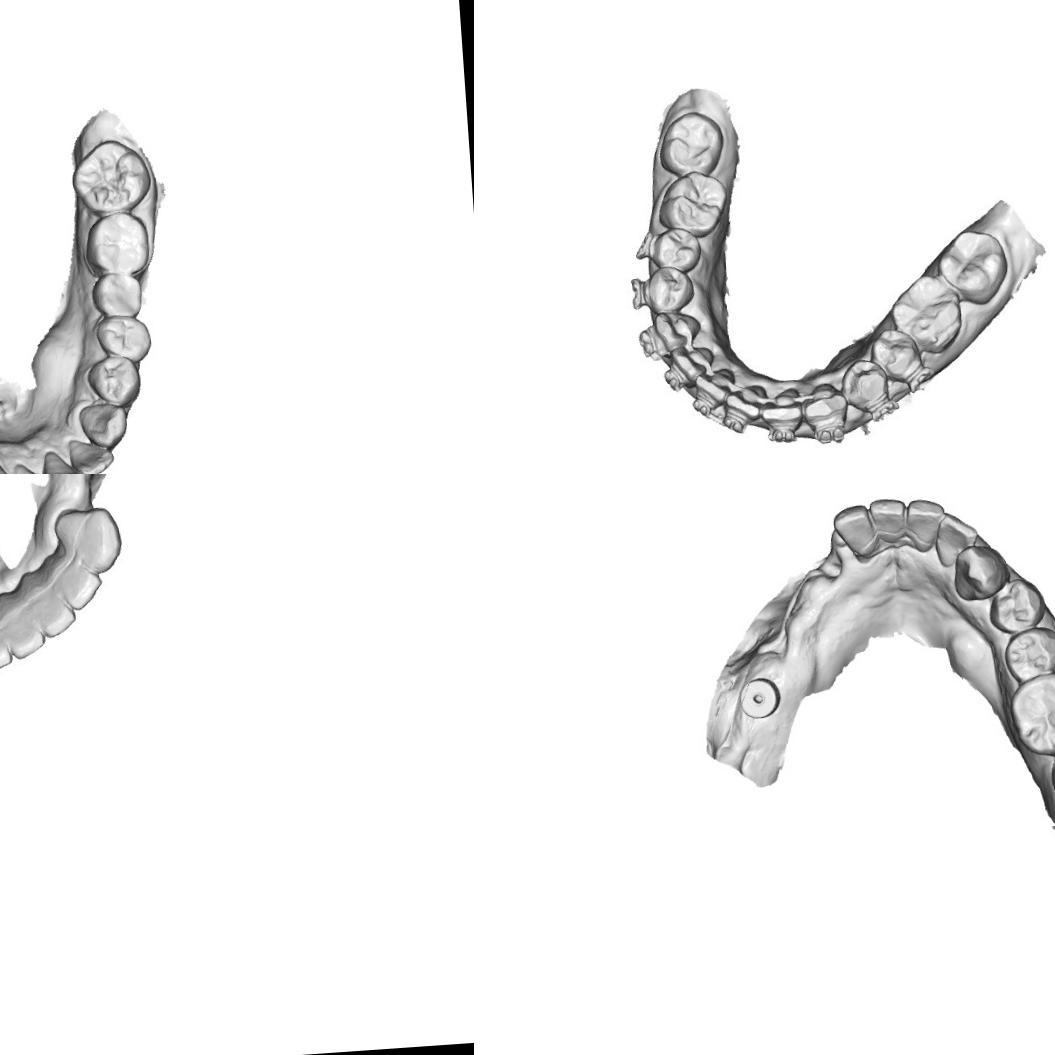canine: (52, 504, 125, 576), (950, 542, 1008, 603), (76, 400, 128, 448), (656, 308, 701, 352), (802, 380, 844, 426)
implant: (736, 672, 784, 720)
incisor: (831, 501, 878, 562), (932, 509, 980, 568), (54, 563, 104, 612), (0, 607, 46, 660), (904, 497, 948, 551), (30, 589, 77, 639), (66, 433, 117, 474), (868, 495, 909, 546), (671, 342, 713, 382), (762, 388, 800, 428), (728, 384, 766, 420), (40, 447, 87, 474), (696, 372, 736, 402), (0, 617, 13, 675), (11, 459, 55, 474)
molar: (67, 136, 153, 218), (80, 208, 151, 278), (890, 276, 960, 347), (1006, 668, 1055, 759), (942, 228, 1006, 297), (662, 112, 722, 178), (661, 168, 726, 227), (89, 269, 144, 320)
premolar: (984, 576, 1048, 637), (83, 351, 143, 409), (93, 310, 153, 364), (999, 624, 1055, 680), (872, 328, 918, 376), (844, 361, 893, 404), (650, 268, 699, 310), (653, 232, 699, 268)
